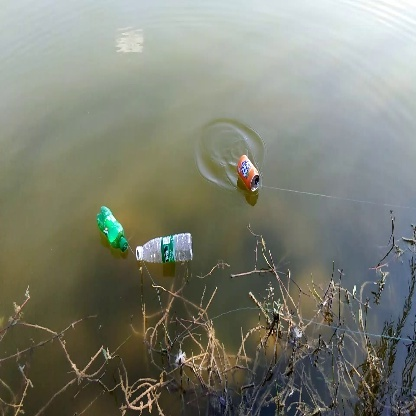bottle: (135, 229, 198, 268), (93, 203, 130, 254), (234, 150, 268, 193)
